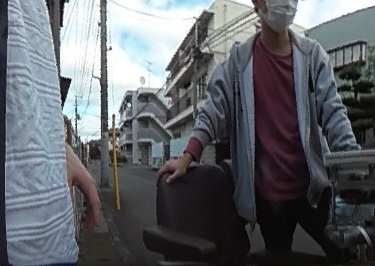person: (214, 0, 354, 266)
